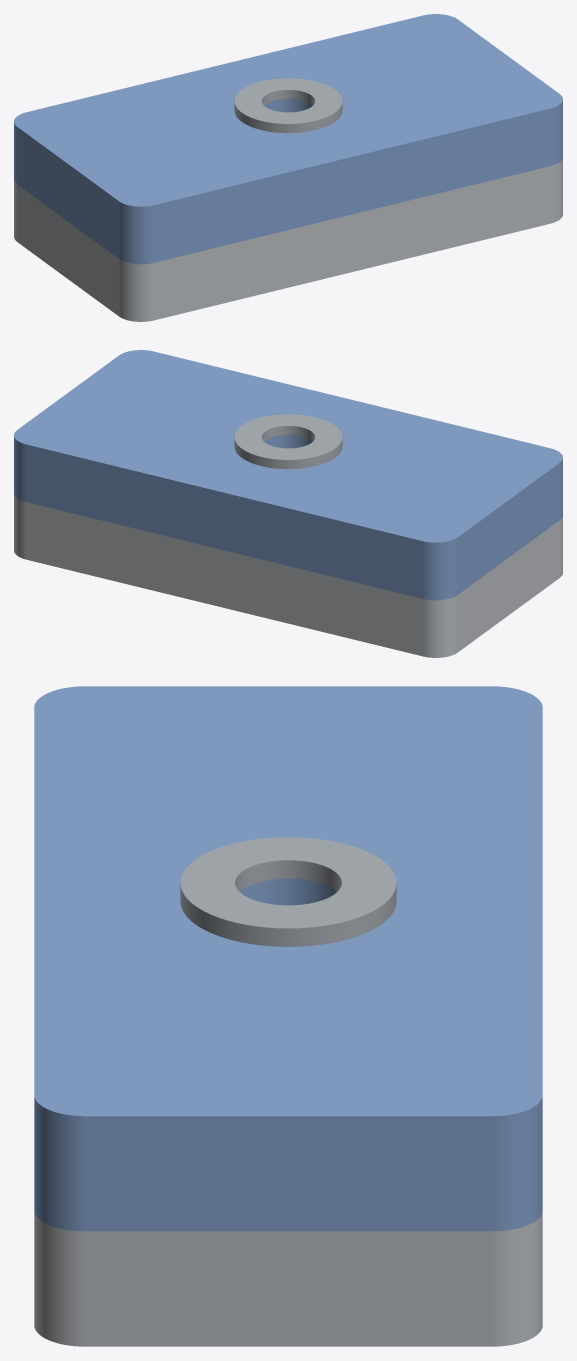
File: step_07.glb
The picture shows the model from 3 angles, top to bottom: view 1: azimuth 30°, elevation 25°; view 2: azimuth 150°, elevation 25°; view 3: azimuth 270°, elevation 25°; orthographic projection. The views are drawn at different scales.
Parts seen in each view (by area): view 1: part__upper plate, part__lower plate, part__washer; view 2: part__upper plate, part__lower plate, part__washer; view 3: part__upper plate, part__lower plate, part__washer.
Boxes of the visible parts, x1=… form: part__upper plate: x1=14, y1=14, x2=562, y2=264; part__lower plate: x1=14, y1=158, x2=562, y2=321; part__washer: x1=234, y1=78, x2=342, y2=133; part__upper plate: x1=14, y1=350, x2=562, y2=600; part__lower plate: x1=14, y1=494, x2=562, y2=657; part__washer: x1=234, y1=414, x2=342, y2=469; part__upper plate: x1=34, y1=686, x2=542, y2=1231; part__lower plate: x1=34, y1=1212, x2=542, y2=1346; part__washer: x1=180, y1=837, x2=396, y2=946.
Bounding box in the file's own units: 80 × 21.6 × 40.
